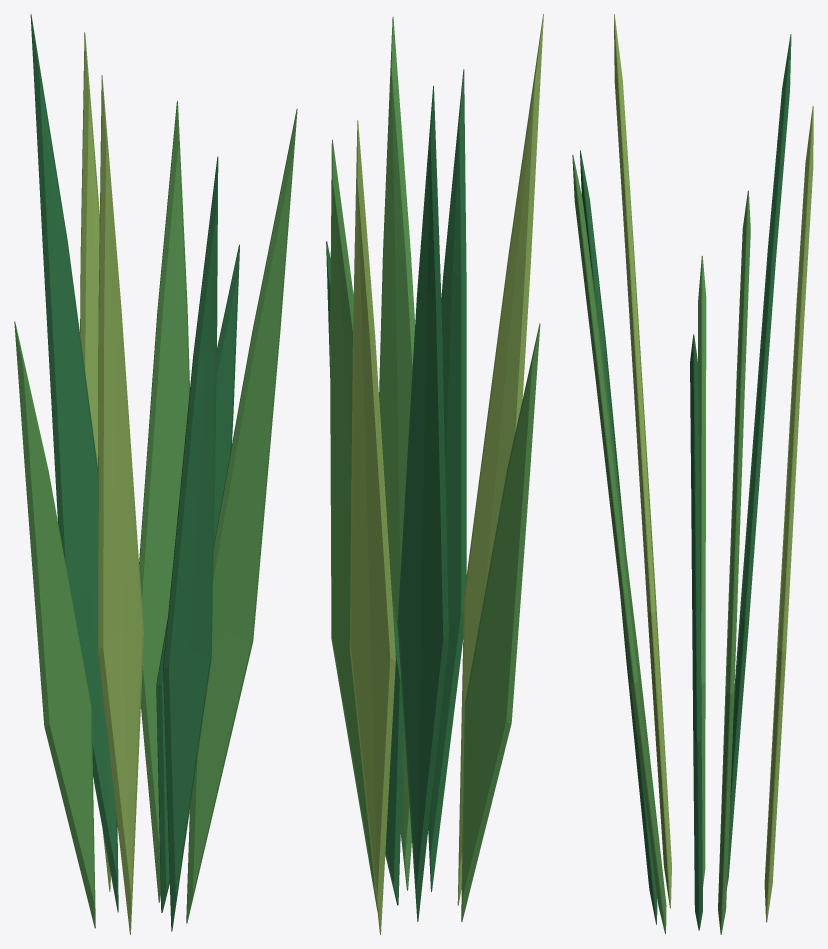
File: Grass_Tall.fbx
3 views of the same model, side by side, from view 1: azimuth 30°, elevation 25°; view 2: azimuth 150°, elevation 25°; view 3: azimuth 270°, elevation 25° (orthographic). The views are drawn at different scales.
Parts seen in each view (by area): view 1: Tall_Narrow_Blade_08, Tall_Narrow_Blade_06, Tall_Narrow_Blade_04, Tall_Narrow_Blade_07, Tall_Narrow_Blade_02, Tall_Narrow_Blade_05, Tall_Narrow_Blade_01, Tall_Narrow_Blade_03; view 2: Tall_Narrow_Blade_04, Tall_Narrow_Blade_03, Tall_Narrow_Blade_05, Tall_Narrow_Blade_06, Tall_Narrow_Blade_07, Tall_Narrow_Blade_08, Tall_Narrow_Blade_02, Tall_Narrow_Blade_01; view 3: Tall_Narrow_Blade_06, Tall_Narrow_Blade_08, Tall_Narrow_Blade_04, Tall_Narrow_Blade_03, Tall_Narrow_Blade_02, Tall_Narrow_Blade_01, Tall_Narrow_Blade_05, Tall_Narrow_Blade_07.
Part boxes in pixels (x1,y1,x2,y2): Tall_Narrow_Blade_08: (186,109,297,923); Tall_Narrow_Blade_06: (97,75,143,934); Tall_Narrow_Blade_04: (30,14,118,912); Tall_Narrow_Blade_07: (163,156,218,931); Tall_Narrow_Blade_02: (139,100,189,902); Tall_Narrow_Blade_05: (14,321,95,928); Tall_Narrow_Blade_01: (156,244,239,912); Tall_Narrow_Blade_03: (80,32,110,891); Tall_Narrow_Blade_04: (397,85,448,921); Tall_Narrow_Blade_03: (349,120,395,934); Tall_Narrow_Blade_05: (461,323,540,921); Tall_Narrow_Blade_06: (457,14,543,905); Tall_Narrow_Blade_07: (428,69,466,891); Tall_Narrow_Blade_08: (379,17,415,890); Tall_Narrow_Blade_02: (330,139,377,911); Tall_Narrow_Blade_01: (326,241,403,905); Tall_Narrow_Blade_06: (614,14,671,908); Tall_Narrow_Blade_08: (572,154,666,933); Tall_Narrow_Blade_04: (727,34,791,886); Tall_Narrow_Blade_03: (764,106,813,922); Tall_Narrow_Blade_02: (718,190,750,934); Tall_Narrow_Blade_01: (690,334,702,930); Tall_Narrow_Blade_05: (698,255,706,885); Tall_Narrow_Blade_07: (580,150,657,924).
Bounding box in the file's own units: 54.43 × 211 × 53.12.
